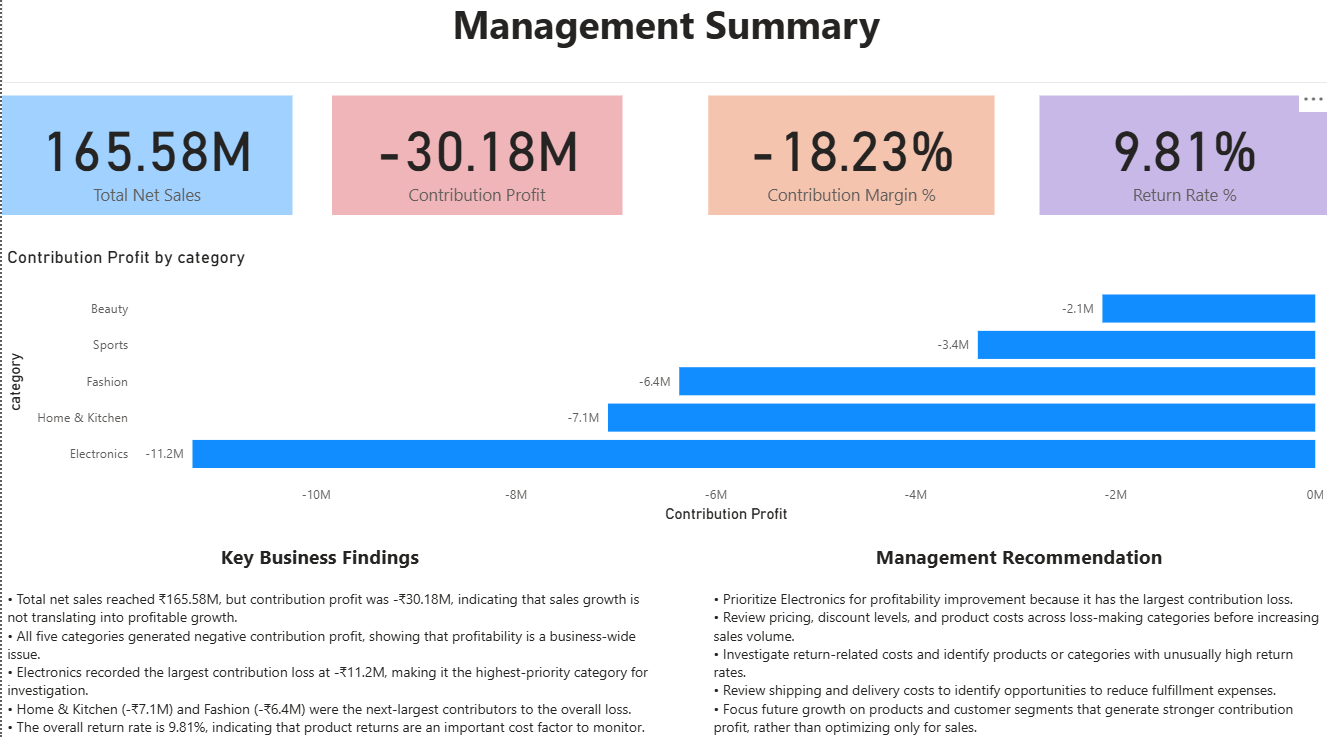

The dashboard page shown, as its layout file describes it:
{"tool":"powerbi","page":{"name":"Management Summary","canvas":[1280,720],"ordinal":5},"visuals":[{"type":"card","fields":{"Values":["tblorders.Total Net Sales"]},"box":[0,98.8,280,115],"z":0},{"type":"card","fields":{"Values":["tblorders.Return Rate %"]},"box":[1000,98.8,280,115],"z":1000},{"type":"card","fields":{"Values":["tblorders.Contribution Margin %"]},"box":[681.2,98.8,276.2,115],"z":2000},{"type":"card","fields":{"Values":["tblorders.Contribution Profit"]},"box":[317.5,98.8,280,115],"z":3000},{"type":"clusteredBarChart","fields":{"Category":["tblproducts.category"],"Y":["tblorders.Contribution Profit"]},"box":[0,245,1280,271.2],"z":4000},{"type":"textbox","box":[0,0,1280,86.2],"z":5000},{"type":"textbox","box":[0,525.8,612.6,44],"z":6000},{"type":"textbox","box":[0,569.8,639.5,150.4],"z":7000},{"type":"textbox","box":[681.1,525.8,599.2,44],"z":8000},{"type":"textbox","box":[681.1,569.8,599.2,150.4],"z":9000}]}

Visuals, with their boxes in screenshot pixels (x1, y1, x2, y2), scaled from the page's 1280x720 canvas onto the 1327x737 screenshot:
card - tblorders.Total Net Sales: detection(0, 101, 290, 219)
card - tblorders.Return Rate %: detection(1037, 101, 1326, 219)
card - tblorders.Contribution Margin %: detection(706, 101, 993, 219)
card - tblorders.Contribution Profit: detection(329, 101, 619, 219)
clusteredBarChart - tblproducts.category x tblorders.Contribution Profit: detection(0, 251, 1326, 528)
textbox: detection(0, 0, 1326, 88)
textbox: detection(0, 538, 635, 583)
textbox: detection(0, 583, 663, 736)
textbox: detection(706, 538, 1326, 583)
textbox: detection(706, 583, 1326, 736)
